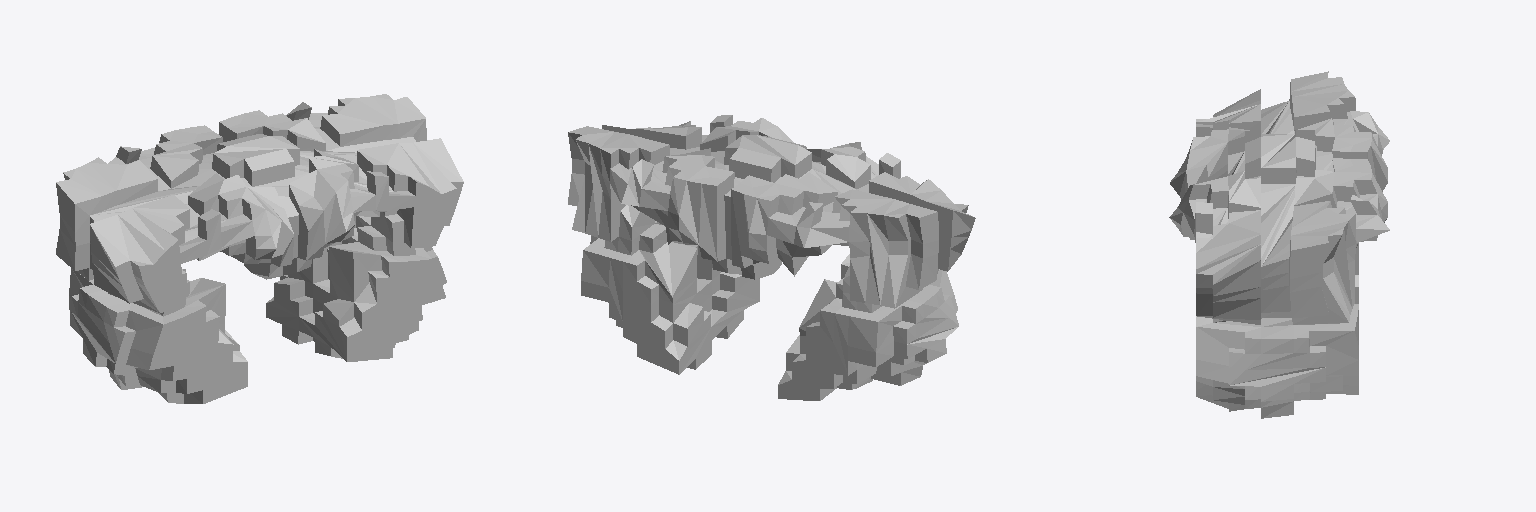
Rendered from Laser_Orientator_LOD0-2.obj.
3 views of the same model, side by side, from view 1: azimuth 30°, elevation 25°; view 2: azimuth 150°, elevation 25°; view 3: azimuth 270°, elevation 25° (orthographic).
Parts seen in each view (by area): view 1: Laser_Orientator_LOD0-2; view 2: Laser_Orientator_LOD0-2; view 3: Laser_Orientator_LOD0-2.
Part boxes in pixels (x1,y1,x2,y2): Laser_Orientator_LOD0-2: (56,94,463,403); Laser_Orientator_LOD0-2: (568,115,975,400); Laser_Orientator_LOD0-2: (1169,71,1389,418).
Size of the model in its own units: 2.5 by 1.48 by 1.36.